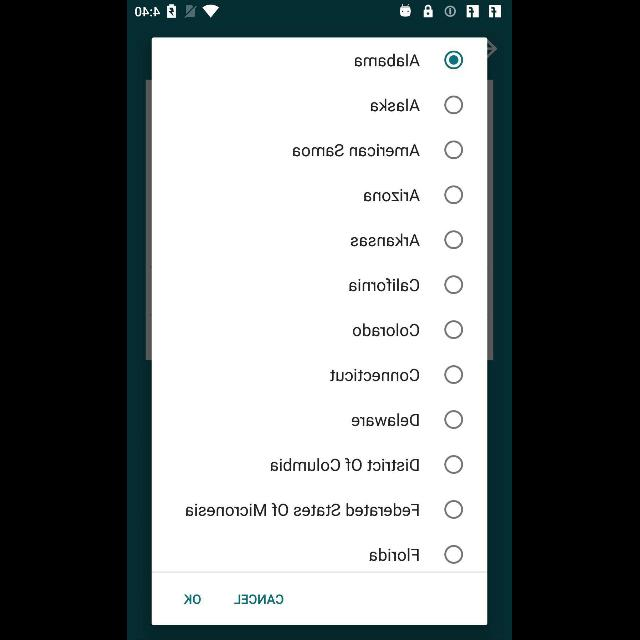checkbox: (444, 499, 464, 518), (445, 230, 463, 250), (446, 320, 464, 340), (446, 544, 464, 564), (446, 51, 464, 69), (446, 96, 464, 114), (446, 141, 464, 159), (446, 186, 464, 204), (446, 276, 464, 294), (446, 366, 464, 384), (445, 411, 463, 429), (446, 455, 464, 473)
panel: (152, 38, 488, 624)
text: (186, 504, 420, 516), (272, 458, 420, 472), (294, 144, 421, 156), (330, 368, 420, 382), (350, 278, 420, 292), (352, 234, 421, 246), (352, 414, 420, 426), (354, 324, 420, 336), (364, 188, 420, 202), (356, 54, 420, 66), (370, 548, 420, 562), (372, 98, 421, 112)
textbutton: (236, 594, 284, 604), (184, 594, 202, 604)
uppertaskbar: (128, 1, 512, 23)
